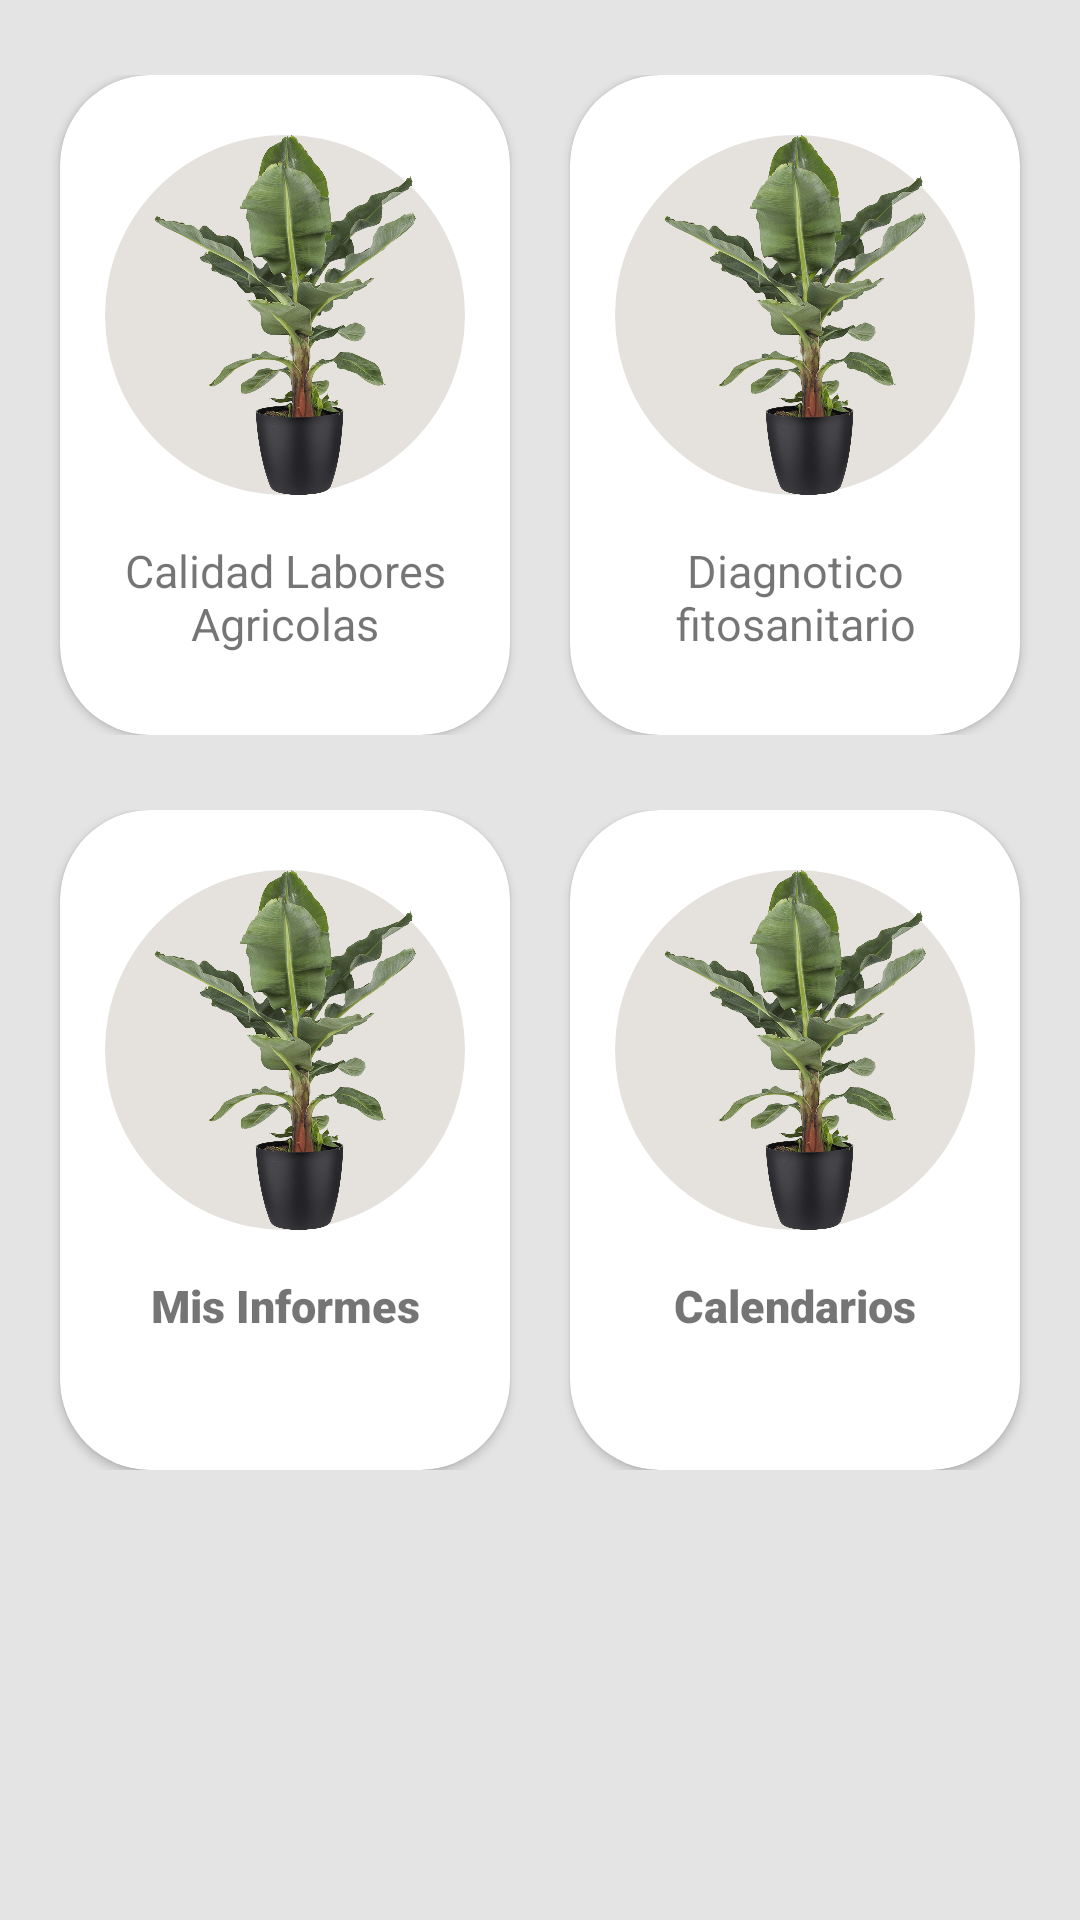

Locate icon controls on the screen. Image size 1080x1920, boxes as box=[x1, y1, x2, y2].
plantbana: box=[105, 135, 465, 495], box=[615, 135, 975, 495], box=[105, 870, 465, 1230], box=[615, 870, 975, 1230]
